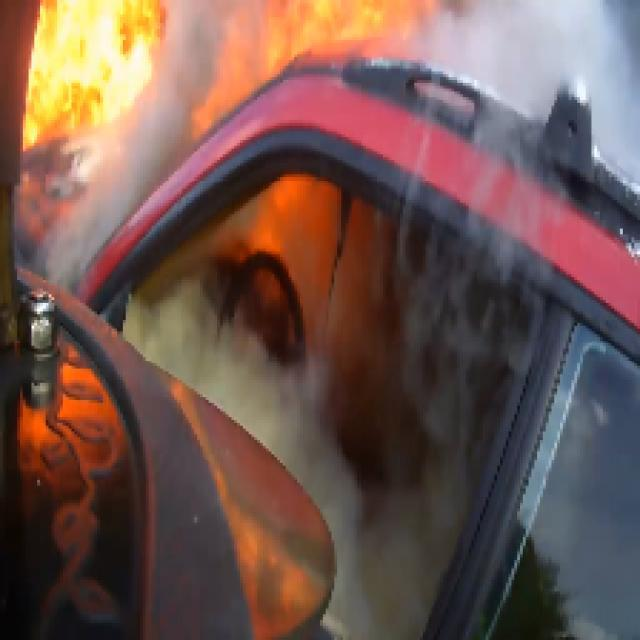Fire: (3, 0, 546, 294)
Smoke: (131, 223, 540, 640)
